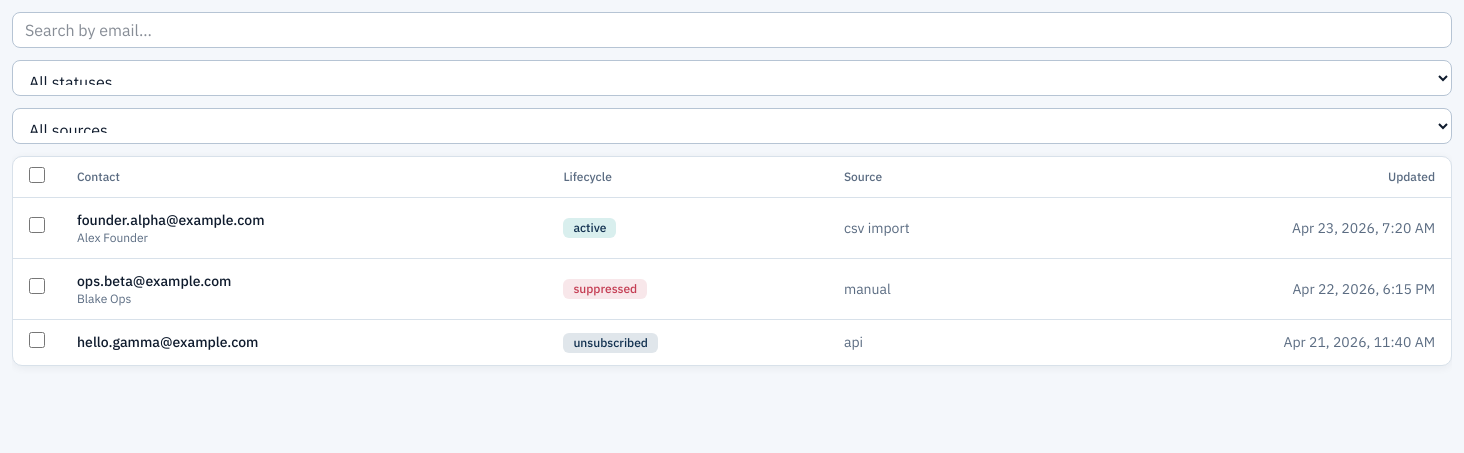
Test: ContactsTable › shows bulk bar when a contact is selected
The width and height of the screenshot is (1464, 453).
Click the checkbox named "Select founder.alpha@example.com" at x=37, y=225, box [29,217,45,233]
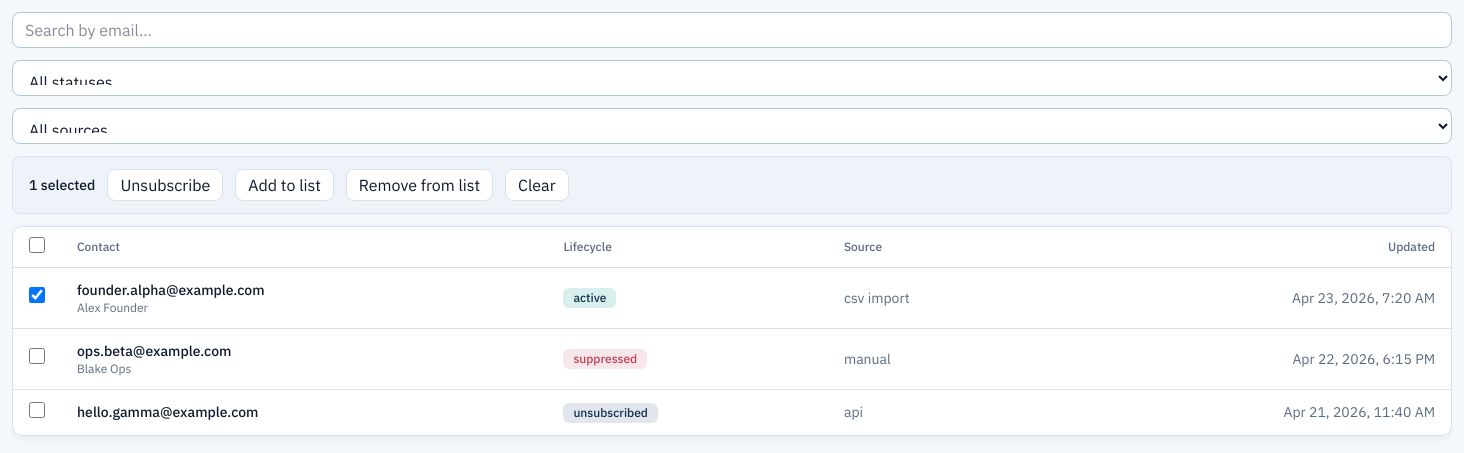
expect the text "1 selected" is shown: met, box [29,175,95,195]
expect the button "Unsubscribe" is shown: met, box [107,169,223,201]
